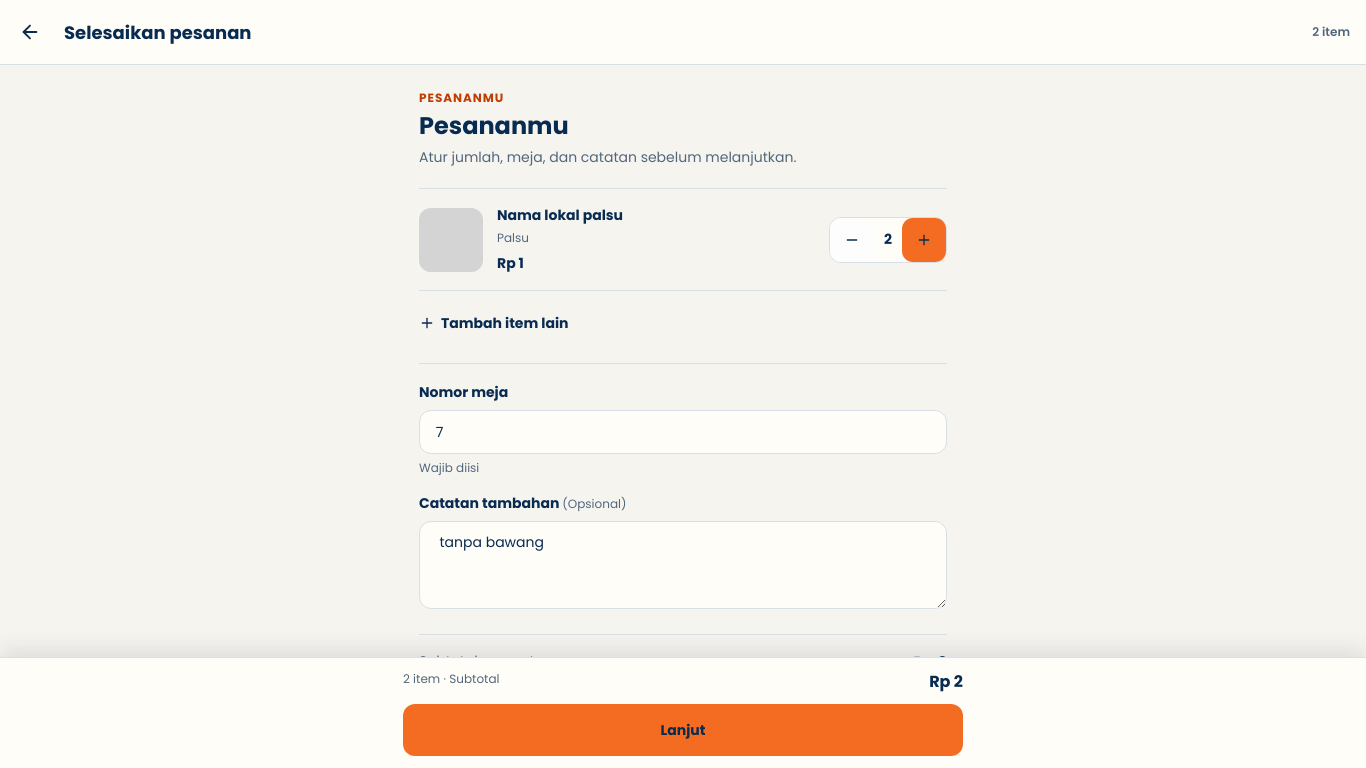
CartView checkout recovery › blocks quote and submission while offline with an inline alert
This screenshot has width=1366, height=768.
Click the button "Lanjut" at (683, 730), box [403, 704, 963, 756]
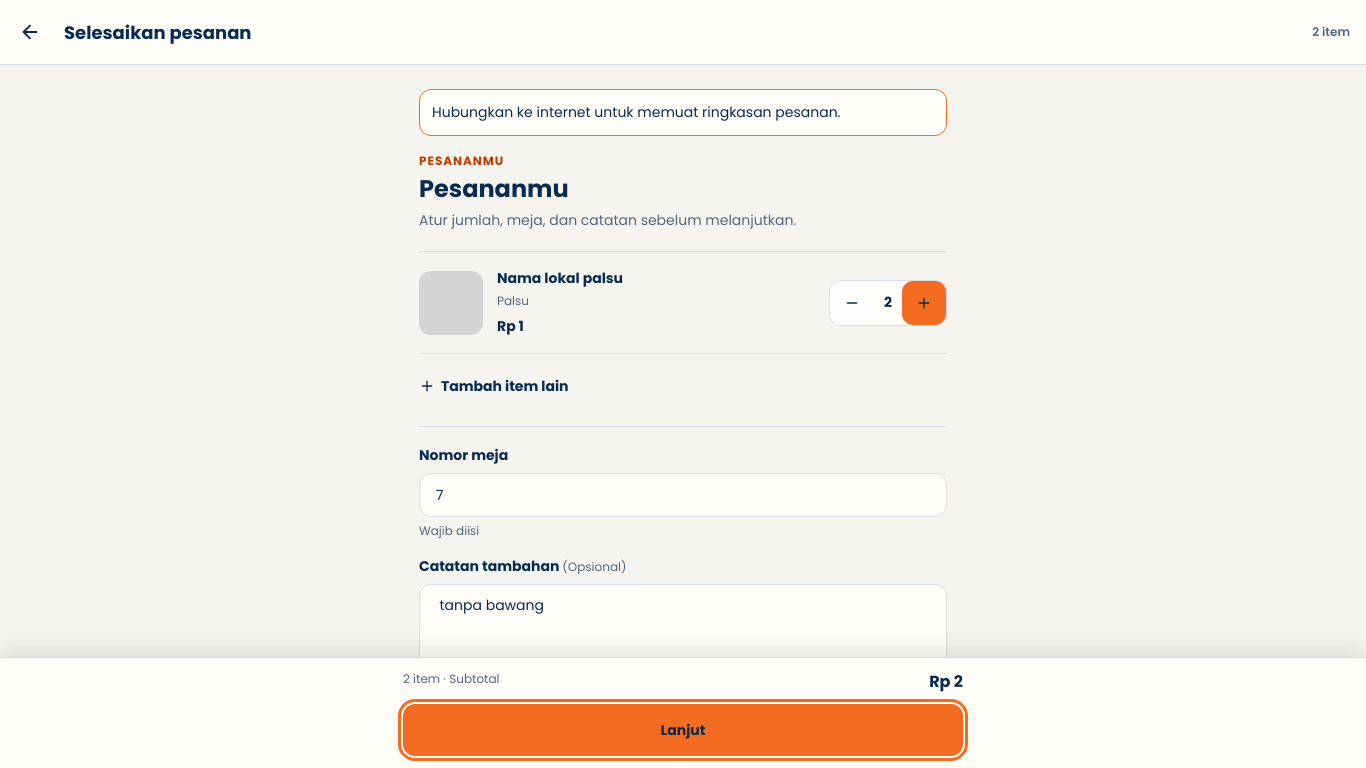
Result: the message shows "Hubungkan ke internet" at [432, 102, 840, 122]
